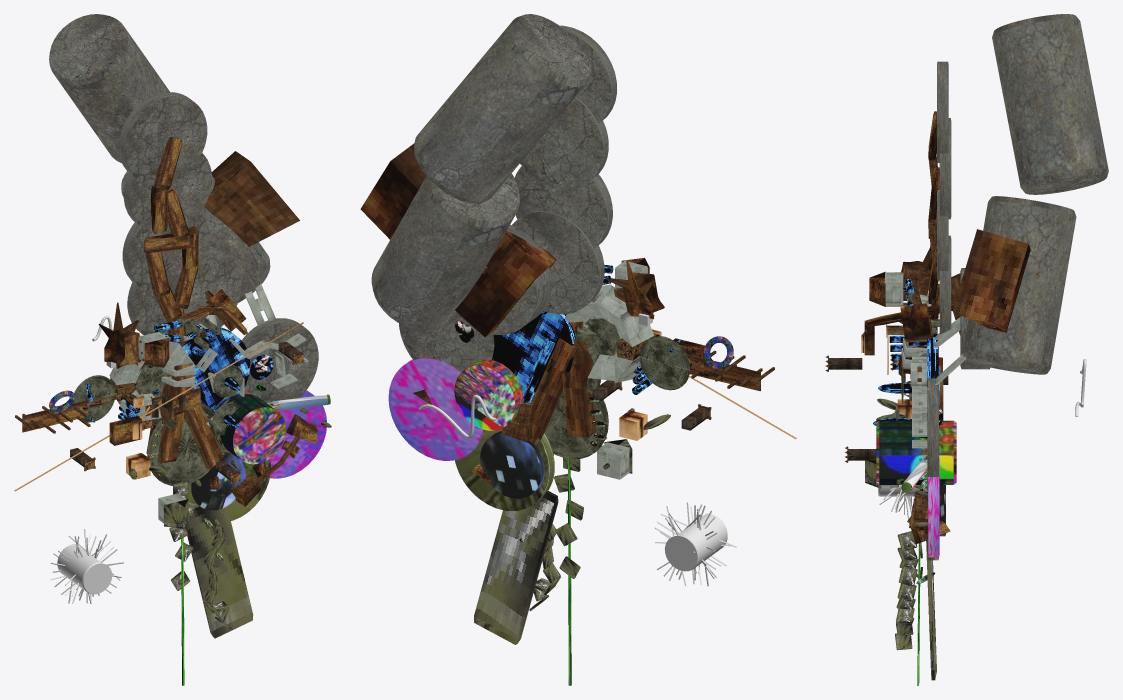
The model's file is mimita-funworld-v4.glb.
3 renders of one model, left to right at view 1: azimuth 30°, elevation 25°; view 2: azimuth 150°, elevation 25°; view 3: azimuth 270°, elevation 25°, orthographic. The views are drawn at different scales.
Parts seen in each view (by area): view 1: Cylinder.034, Cylinder.032, Cube.145, Cube.156, Cylinder.022, Cylinder.025, Cylinder.029, Cylinder.031, Cylinder.033, Cylinder.030, Sphere.008, Cylinder.015 (+30 smaller); view 2: Cylinder.034, Cylinder.033, Cube.156, Cylinder.023, Cylinder.030, Cylinder.031, Cube.144, Cylinder.029, Cylinder.025, Cylinder.027, Cylinder.015, Cube.145 (+18 smaller); view 3: Cylinder.034, Cylinder.033, Cube.145, Cylinder.025, Cylinder.022, Cylinder.032, Cube.053, Cylinder.023, Cylinder.031, Cylinder.030, Cube.058, Cube.156 (+6 smaller).
Part boxes in pixels (box(x1,y1,x2,y2)): Cylinder.034: box(49, 14, 169, 163); Cylinder.032: box(119, 92, 207, 185); Cube.145: box(204, 151, 299, 246); Cube.156: box(185, 506, 253, 638); Cylinder.022: box(241, 318, 318, 402); Cylinder.025: box(214, 391, 285, 464); Cylinder.029: box(122, 204, 210, 293); Cylinder.031: box(123, 153, 212, 224); Cylinder.033: box(121, 171, 270, 302); Cylinder.030: box(127, 262, 215, 335); Sphere.008: box(147, 404, 222, 485); Cylinder.015: box(182, 327, 249, 409); Cylinder.034: box(414, 14, 590, 203); Cylinder.033: box(371, 173, 519, 330); Cube.156: box(474, 491, 558, 644); Cylinder.023: box(388, 358, 483, 460); Cylinder.030: box(512, 211, 604, 314); Cylinder.031: box(520, 96, 608, 189); Cube.144: box(455, 231, 556, 337); Cylinder.029: box(514, 166, 612, 248); Cylinder.025: box(454, 359, 522, 430); Cylinder.027: box(480, 431, 544, 498); Cylinder.015: box(491, 312, 576, 392); Cube.145: box(360, 143, 426, 239); Cylinder.034: box(992, 14, 1108, 194); Cylinder.033: box(962, 196, 1076, 374); Cube.145: box(952, 229, 1030, 332); Cylinder.025: box(876, 420, 956, 484); Cylinder.022: box(927, 378, 938, 479); Cylinder.032: box(937, 61, 948, 162); Cube.053: box(900, 303, 933, 341); Cylinder.023: box(928, 456, 939, 557); Cylinder.031: box(939, 118, 951, 219); Cylinder.030: box(939, 235, 951, 334); Cube.058: box(901, 248, 930, 300); Cube.156: box(926, 540, 936, 680).
Bounding box in the file's own units: 728 × 1319 × 512.
Materials: 128 (128 with a texture image).
